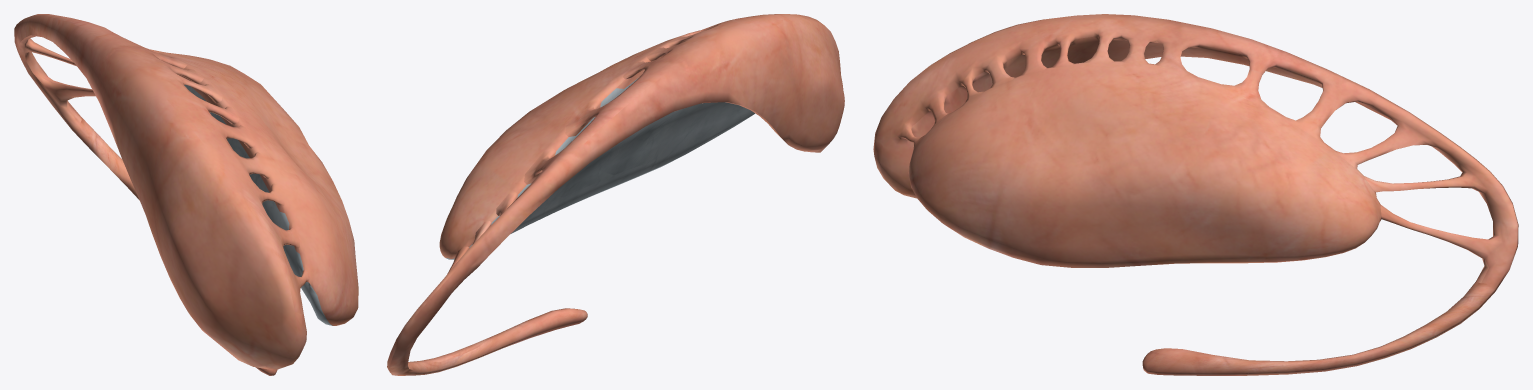
The model's file is caudate_putamen01.fbx.
3 renders of one model, left to right at view 1: azimuth 30°, elevation 25°; view 2: azimuth 150°, elevation 25°; view 3: azimuth 270°, elevation 25°, orthographic. The views are drawn at different scales.
Parts seen in each view (by area): view 1: L_Caudate_Nucleus, L_Putamen; view 2: L_Caudate_Nucleus, L_Putamen; view 3: L_Putamen, L_Caudate_Nucleus.
Boxes of the visible parts, x1=… form: L_Caudate_Nucleus: x1=14, y1=14, x2=309, y2=375; L_Putamen: x1=159, y1=52, x2=358, y2=325; L_Caudate_Nucleus: x1=387, y1=14, x2=844, y2=375; L_Putamen: x1=439, y1=33, x2=754, y2=259; L_Putamen: x1=908, y1=61, x2=1381, y2=267; L_Caudate_Nucleus: x1=873, y1=14, x2=1518, y2=375.
Bounding box in the file's own units: 2.62 × 3.69 × 7.26.
1 material, 1 textured.
